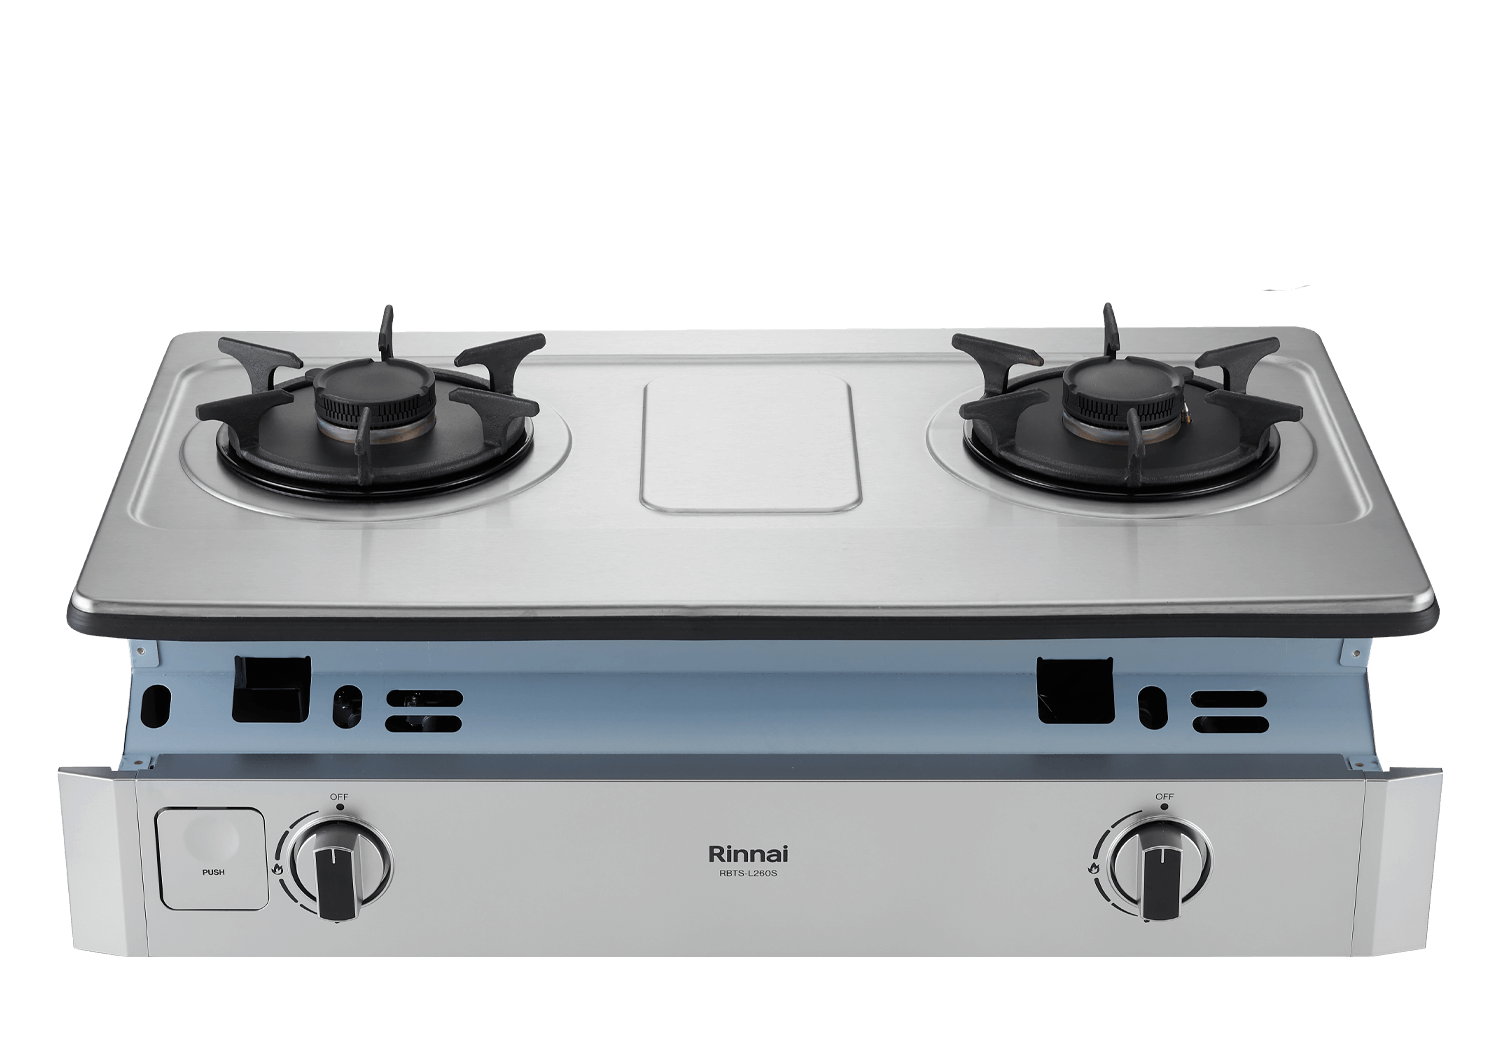gasoven: (65, 306, 1445, 973)
